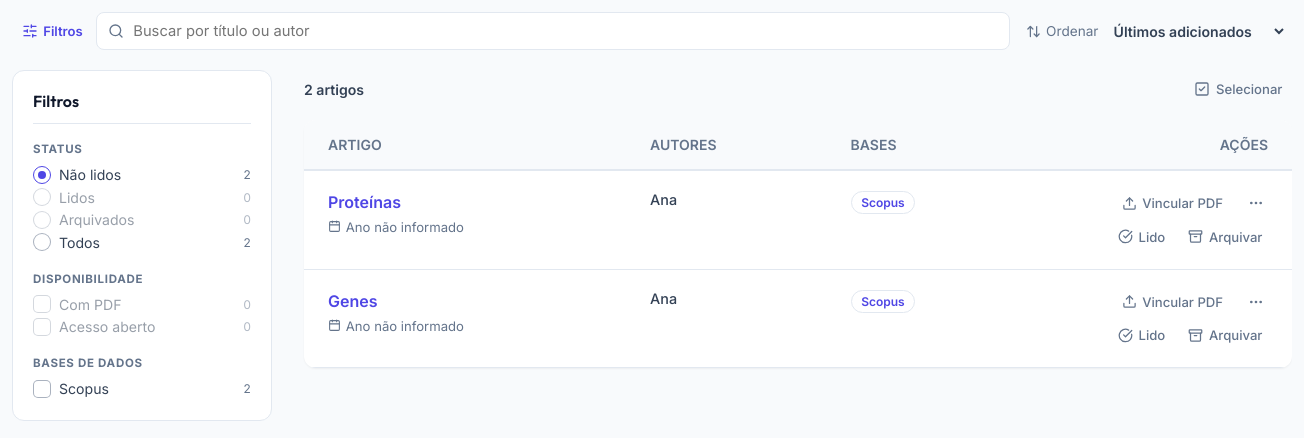
Test: ProjectArticlesTab layout › filters the list through the shared filtering state
Step 1. Type "gen" into the search field with placeholder "Buscar por título ou autor" → (553, 31), box [96,12,1010,50]
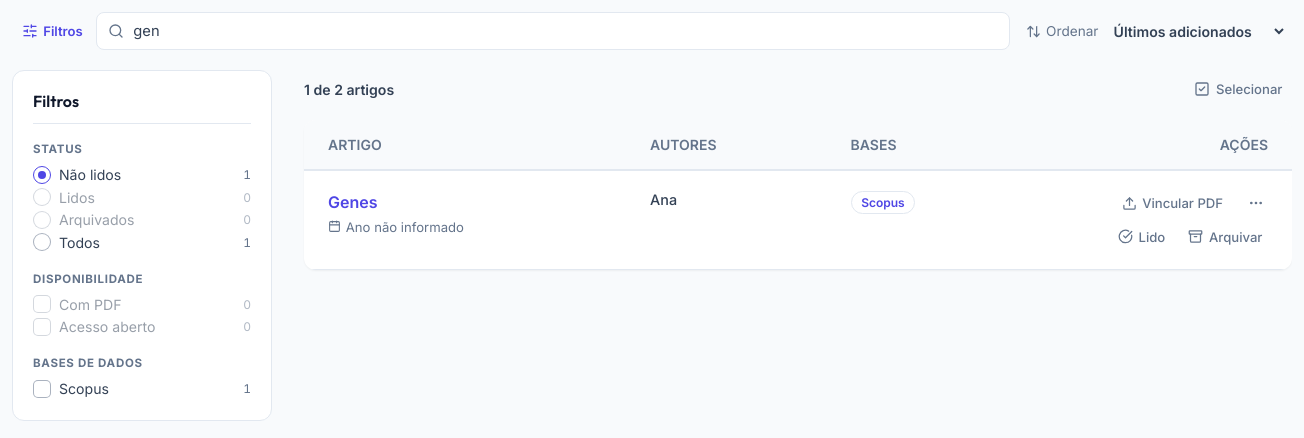
Check: the button "Genes" is shown, box [328,192,378,212]
Check: the button "Proteínas" is gone
